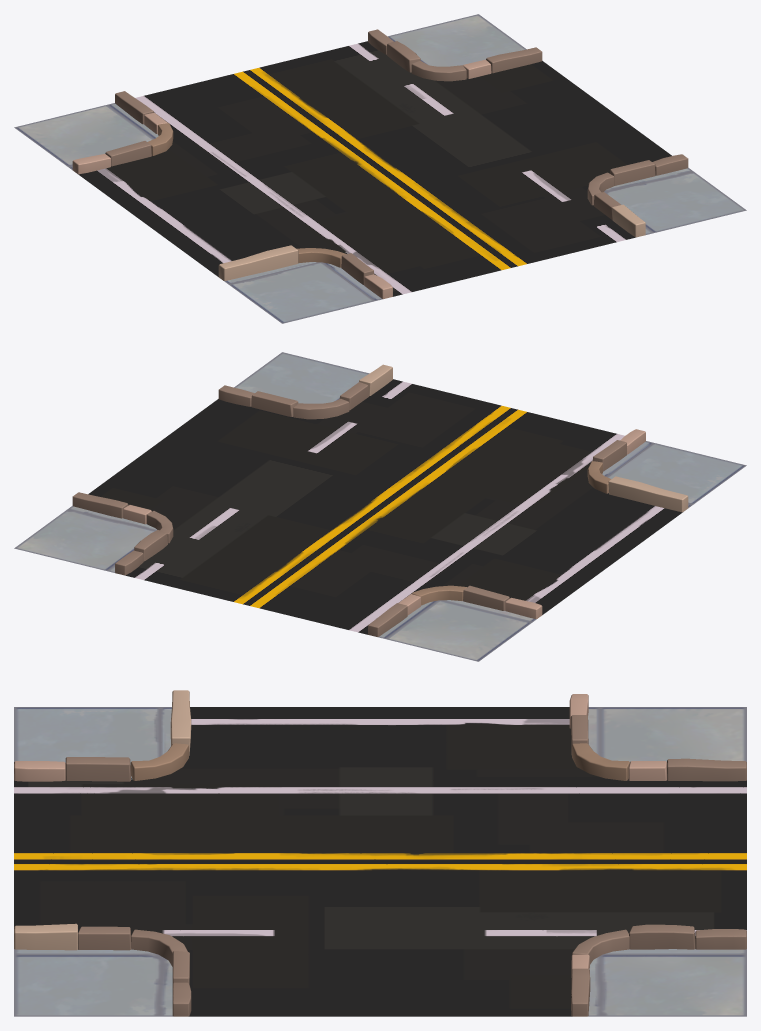
Rendered from CityRoad_crossroadNarrow.fbx.
The picture shows the model from 3 angles, top to bottom: view 1: azimuth 30°, elevation 25°; view 2: azimuth 150°, elevation 25°; view 3: azimuth 270°, elevation 25°; orthographic projection. The views are drawn at different scales.
Parts seen in each view (by area): view 1: CityRoad_crossroadNarrow_mesh; view 2: CityRoad_crossroadNarrow_mesh; view 3: CityRoad_crossroadNarrow_mesh.
Boxes of the visible parts, box(x1,y1,x2,y2) form: CityRoad_crossroadNarrow_mesh: box(14, 14, 746, 323); CityRoad_crossroadNarrow_mesh: box(14, 352, 746, 661); CityRoad_crossroadNarrow_mesh: box(14, 690, 746, 1016).
Bounding box in the file's own units: 1000 × 28.55 × 1000.
